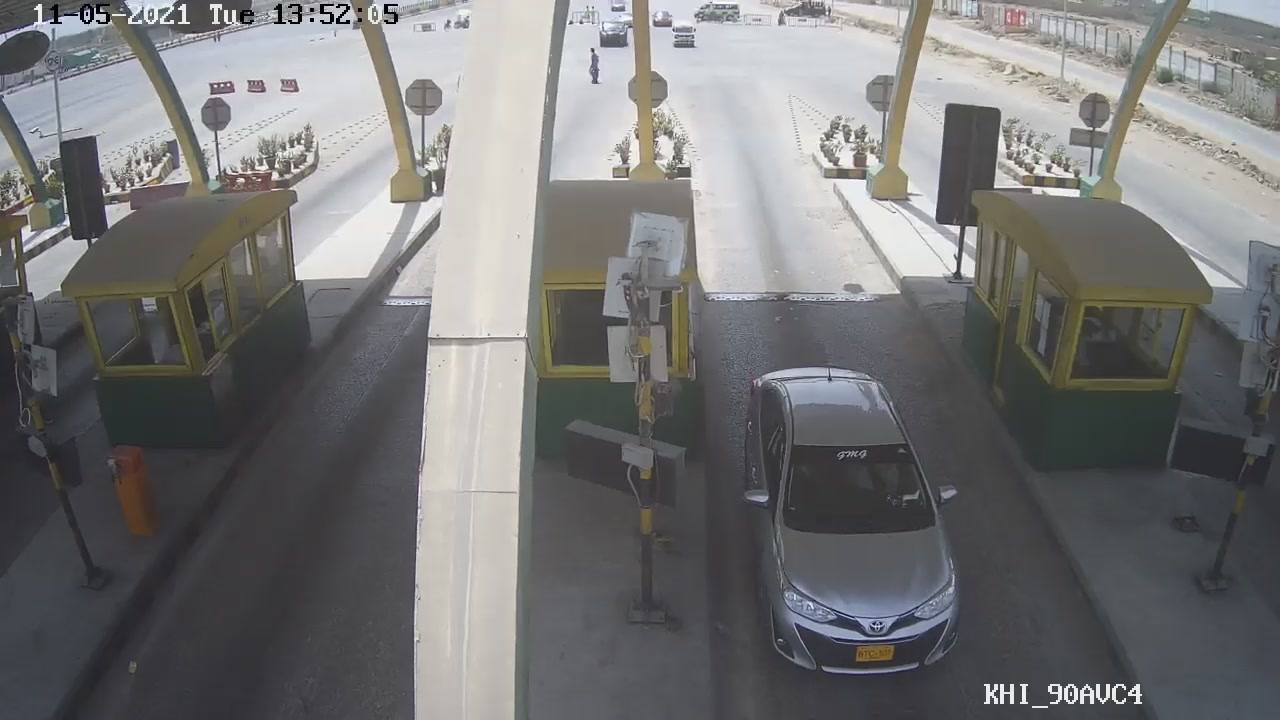F1: (735, 365, 967, 687)
